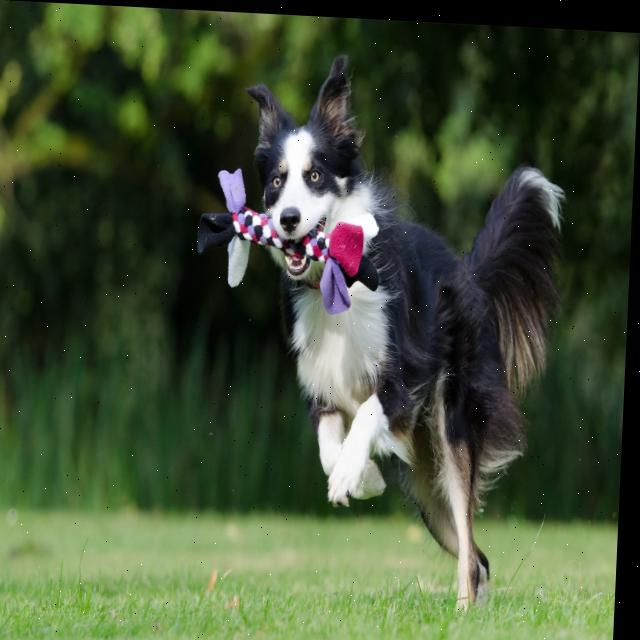ALASKAN_MALAMUTE: (158, 45, 574, 627)
